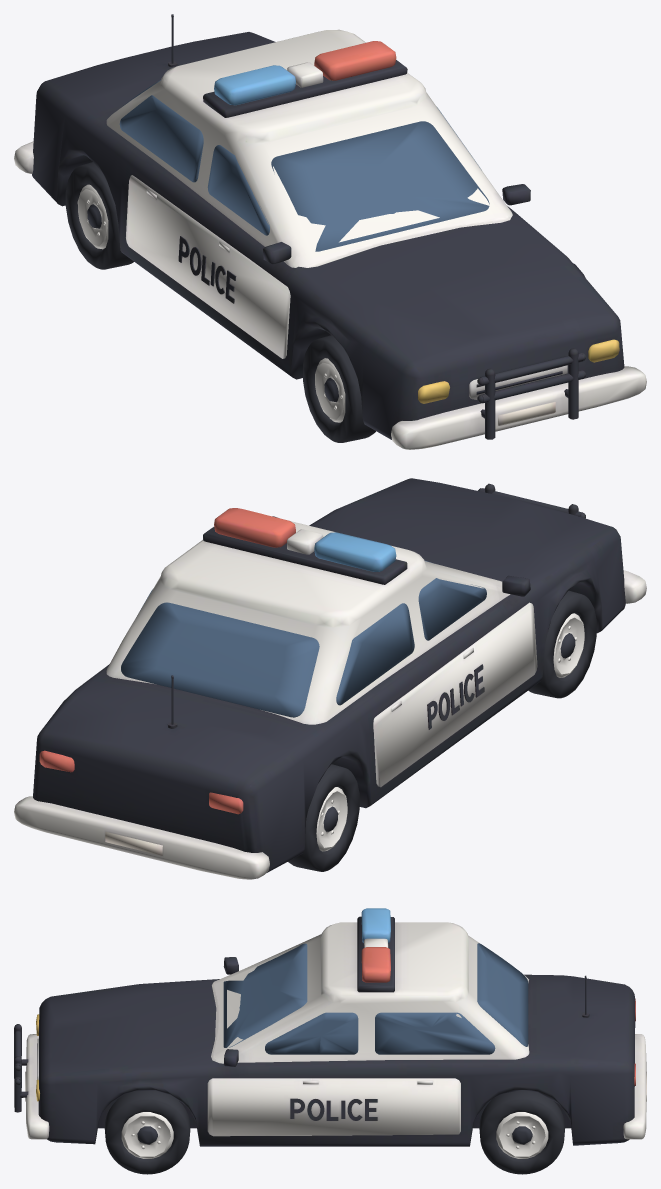
File: n_police.glb
3 renders of one model, top to bottom at view 1: azimuth 30°, elevation 25°; view 2: azimuth 150°, elevation 25°; view 3: azimuth 270°, elevation 25°, orthographic. The views are drawn at different scales.
Visible parts, largest first — view 1: police-car_body, police-car_windows, police-car_wheel_fr, police-car_wheel_rr; view 2: police-car_body, police-car_windows, police-car_wheel_rr, police-car_wheel_fr; view 3: police-car_body, police-car_windows, police-car_wheel_fl, police-car_wheel_rl.
Boxes of the visible parts, x1,y1,x2,y2 form: police-car_body: (14,14,646,449); police-car_windows: (119,80,489,251); police-car_wheel_fr: (303,335,375,442); police-car_wheel_rr: (65,162,133,269); police-car_body: (14,478,646,879); police-car_windows: (121,560,486,717); police-car_wheel_rr: (288,764,359,871); police-car_wheel_fr: (528,590,596,698); police-car_body: (14,908,646,1146); police-car_windows: (223,943,528,1054); police-car_wheel_fl: (104,1090,190,1174); police-car_wheel_rl: (479,1090,565,1174).
Bounding box in the file's own units: 1.89 × 1.65 × 4.98.
2 materials, 1 textured.
